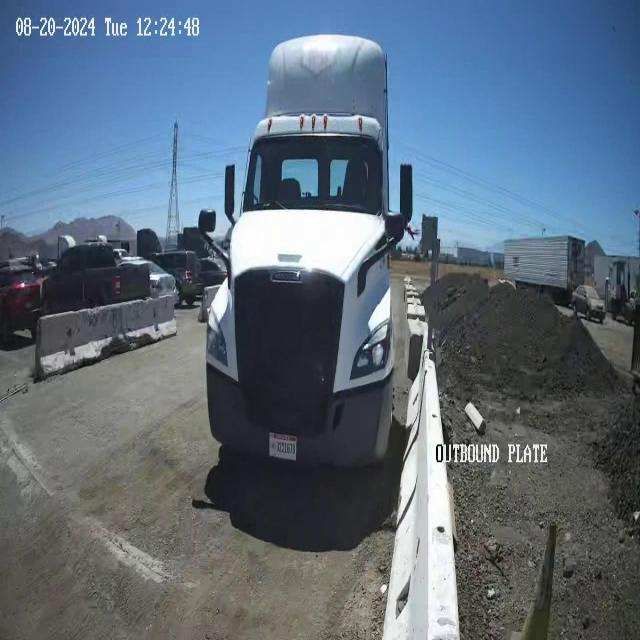TRUCK_OUT: (200, 32, 413, 473)
